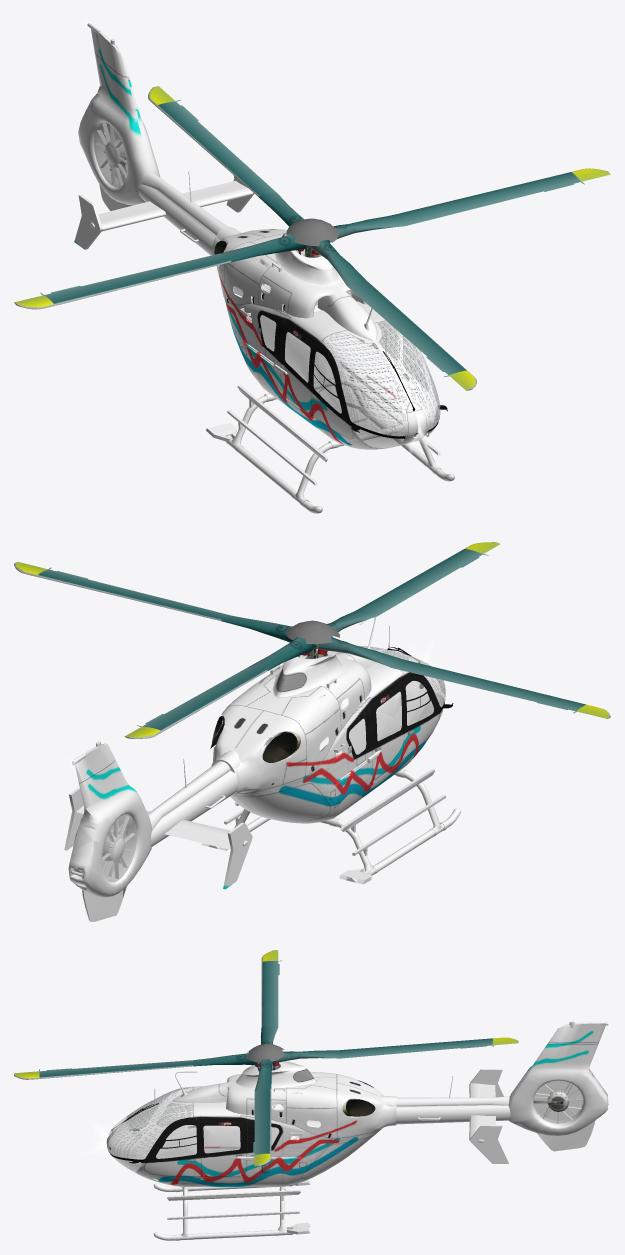
The model's file is WhiteDefault.gltf.
3 views of the same model, one above another, from view 1: azimuth 30°, elevation 25°; view 2: azimuth 150°, elevation 25°; view 3: azimuth 270°, elevation 25° (orthographic). The views are drawn at different scales.
Visible parts, largest first — view 1: Exterior, Spin_12, Spin_22, Spin_7, Spin_17, Spin_0, Spin_20, Spin_15, Spin_21, Spin_16, Spin_5, Spin_11 (+2 smaller); view 2: Exterior, Spin_22, Spin_7, Spin_12, Spin_17, Spin_0, Spin_10, Spin_15, Spin_11, Spin_16, Spin_21, Spin_5 (+4 smaller); view 3: Exterior, Spin_17, Spin_7, Spin_22, Spin_12, Spin_0, Spin_5, Spin_6.
Part boxes in pixels (x1,y1,x2,y2): Exterior: (74, 19, 454, 513); Spin_12: (14, 280, 117, 309); Spin_22: (508, 168, 610, 197); Spin_7: (148, 86, 211, 138); Spin_17: (413, 338, 476, 390); Spin_0: (286, 218, 338, 246); Spin_20: (394, 200, 462, 226); Spin_15: (347, 279, 398, 315); Spin_21: (453, 187, 518, 211); Spin_16: (381, 309, 431, 343); Spin_5: (225, 163, 276, 196); Spin_11: (106, 267, 172, 290); Exterior: (64, 617, 460, 921); Spin_22: (14, 562, 113, 592); Spin_7: (124, 705, 199, 738); Spin_12: (511, 688, 610, 718); Spin_17: (426, 542, 500, 576); Spin_0: (285, 620, 339, 643); Spin_10: (392, 659, 462, 682); Spin_15: (358, 589, 411, 616); Spin_11: (453, 674, 520, 695); Spin_16: (393, 570, 444, 595); Spin_21: (102, 586, 171, 606); Spin_5: (213, 667, 267, 690); Exterior: (84, 1021, 609, 1240); Spin_17: (14, 1067, 94, 1079); Spin_7: (438, 1037, 518, 1049); Spin_22: (250, 1130, 271, 1166); Spin_12: (261, 950, 282, 985); Spin_0: (247, 1044, 284, 1062); Spin_5: (339, 1046, 389, 1058); Spin_6: (390, 1042, 438, 1054).
Bounding box in the file's own units: 10.1 × 4.41 × 11.9.
Materials: 16 (9 with a texture image).
